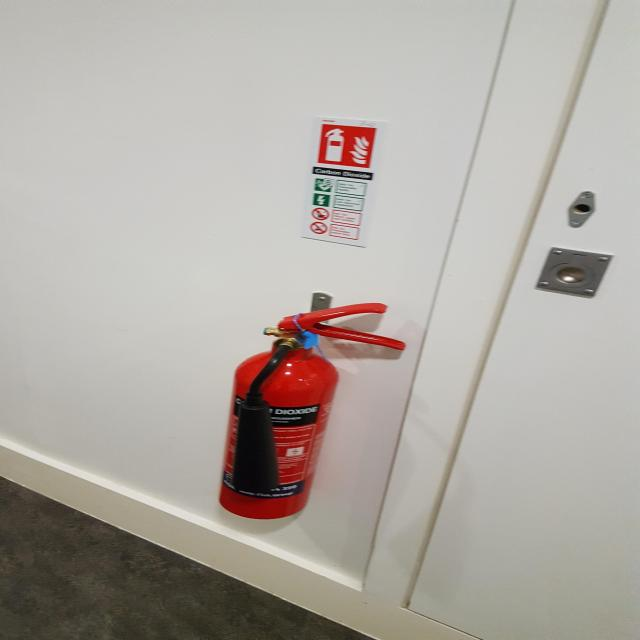fire_extinguisher: (215, 299, 412, 524)
